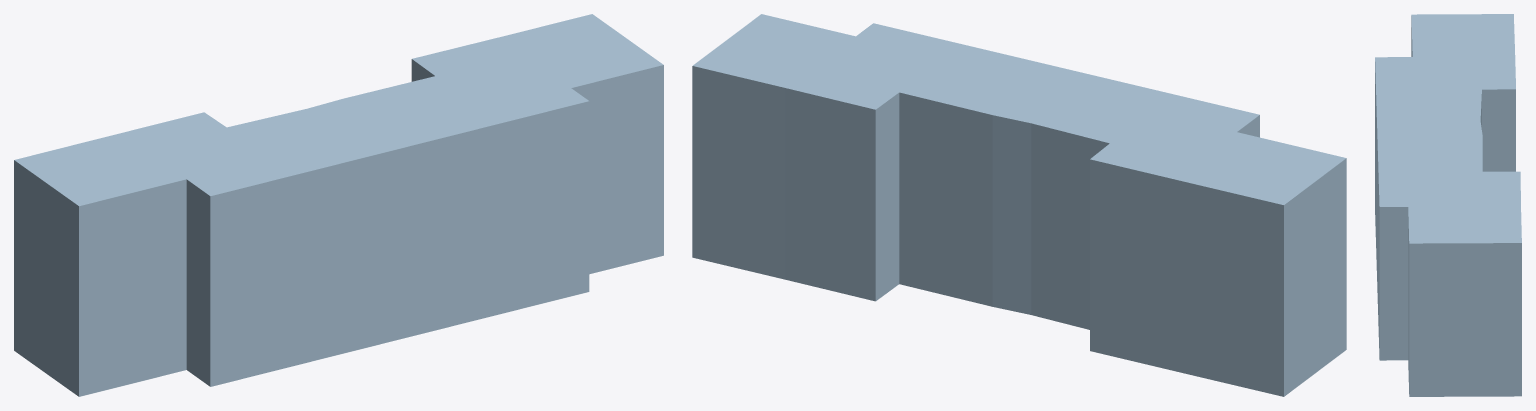
The model's file is osm_way_223859796.glb.
The picture shows the model from 3 angles, left to right: view 1: azimuth 30°, elevation 25°; view 2: azimuth 150°, elevation 25°; view 3: azimuth 270°, elevation 25°; orthographic projection. The views are drawn at different scales.
Visible parts, largest first — view 1: osm_way_223859796; view 2: osm_way_223859796; view 3: osm_way_223859796.
Part boxes in pixels (x1,y1,x2,y2): osm_way_223859796: (14, 14, 663, 396); osm_way_223859796: (692, 14, 1346, 396); osm_way_223859796: (1375, 14, 1521, 396).
Bounding box in the file's own units: 61.6 × 19.2 × 16.66.
